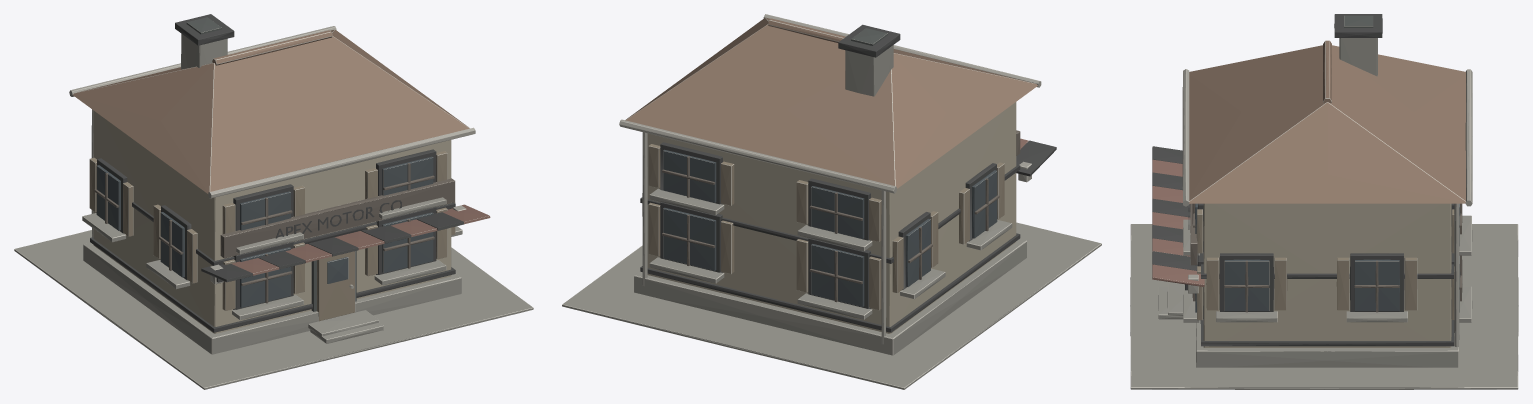
The model's file is district_art_0.glb.
3 renders of one model, left to right at view 1: azimuth 30°, elevation 25°; view 2: azimuth 150°, elevation 25°; view 3: azimuth 270°, elevation 25°, orthographic. The views are drawn at different scales.
Visible parts, largest first — view 1: roof, stone, plaster, trim, glass, wood, timber, metal, cloth, dark; view 2: roof, stone, plaster, glass, trim, wood, metal, timber; view 3: roof, stone, plaster, trim, glass, wood, metal, cloth, timber, dark.
Part boxes in pixels (x1,y1,x2,y2): roof: (73,29,469,193); stone: (14,33,533,389); plaster: (93,111,451,333); trim: (90,14,463,332); glass: (96,156,433,307); wood: (89,151,455,321); timber: (94,163,455,303); metal: (69,26,475,288); cloth: (232,204,490,275); dark: (186,17,356,311); roof: (625,17,1037,188); stone: (562,45,1101,389); plaster: (647,102,1016,333); glass: (663,149,997,306); trim: (640,24,1056,332); wood: (648,144,1004,310); metal: (619,14,1041,344); timber: (662,130,1020,302); roof: (1189,40,1465,203); stone: (1130,38,1518,389); plaster: (1203,203,1451,347); trim: (1152,14,1454,346); glass: (1195,203,1460,312); wood: (1196,209,1454,320); metal: (1182,69,1472,346); cloth: (1152,159,1204,286); timber: (1190,203,1462,312); dark: (1344,15,1373,27).
Bounding box in the file's own units: 12.5 × 9.29 × 12.5.
